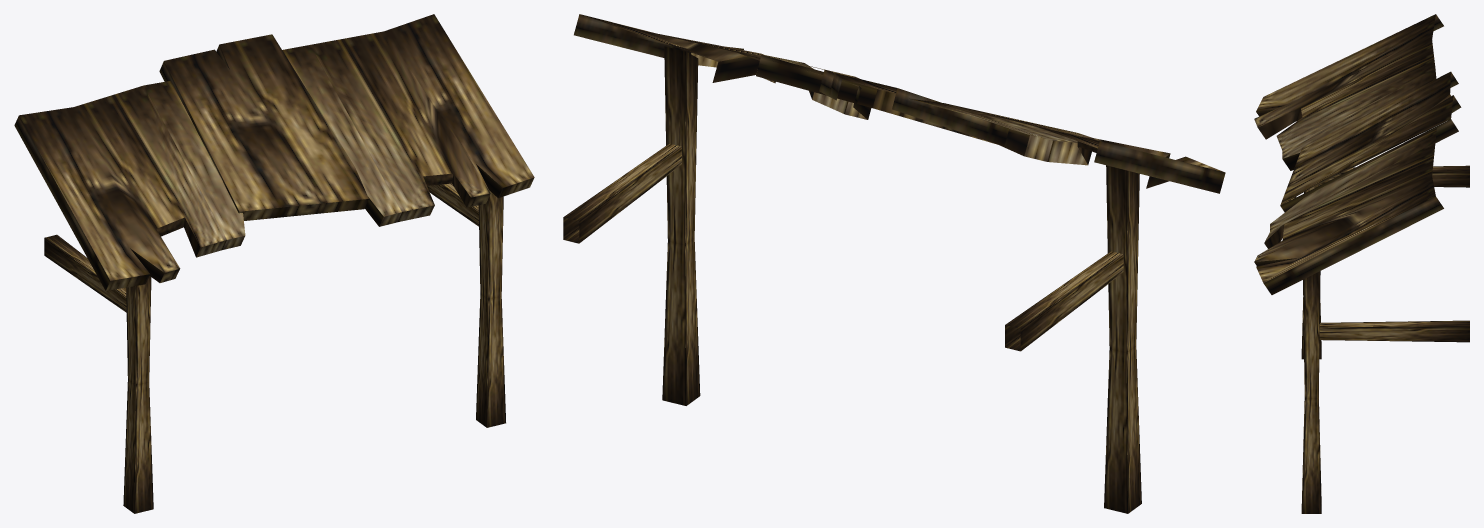
3 renders of one model, left to right at view 1: azimuth 30°, elevation 25°; view 2: azimuth 150°, elevation 25°; view 3: azimuth 270°, elevation 25°, orthographic. The views are drawn at different scales.
Parts seen in each view (by area): view 1: a12; view 2: a12; view 3: a12.
Boxes of the visible parts, x1=… form: a12: x1=14, y1=14, x2=534, y2=513; a12: x1=563, y1=14, x2=1225, y2=513; a12: x1=1254, y1=14, x2=1469, y2=513.
Size of the model in its own units: 1008 by 833 by 493.
Materials: 1 (1 with a texture image).
